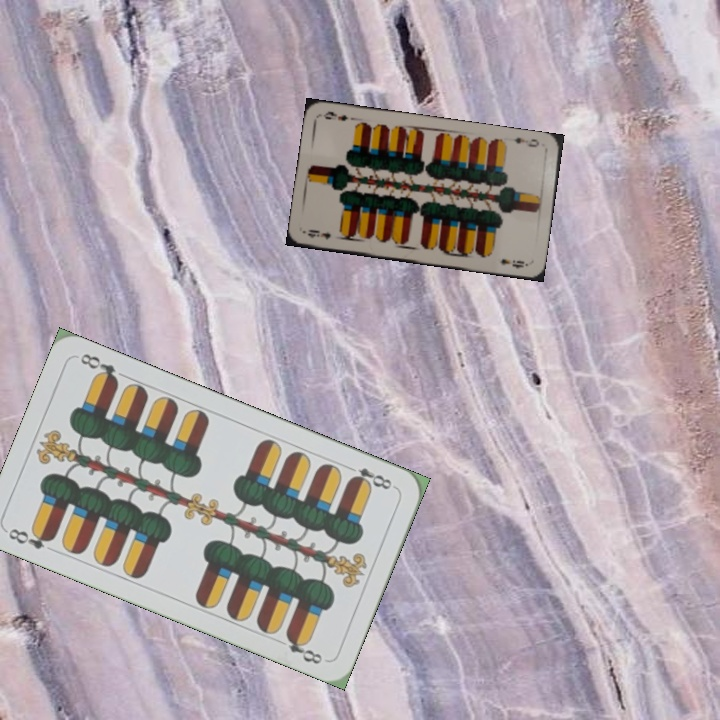E8: (342, 461, 398, 492), (4, 524, 58, 552)
E9: (510, 133, 542, 150), (304, 225, 333, 242)
